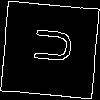U: (25, 25, 73, 65)
